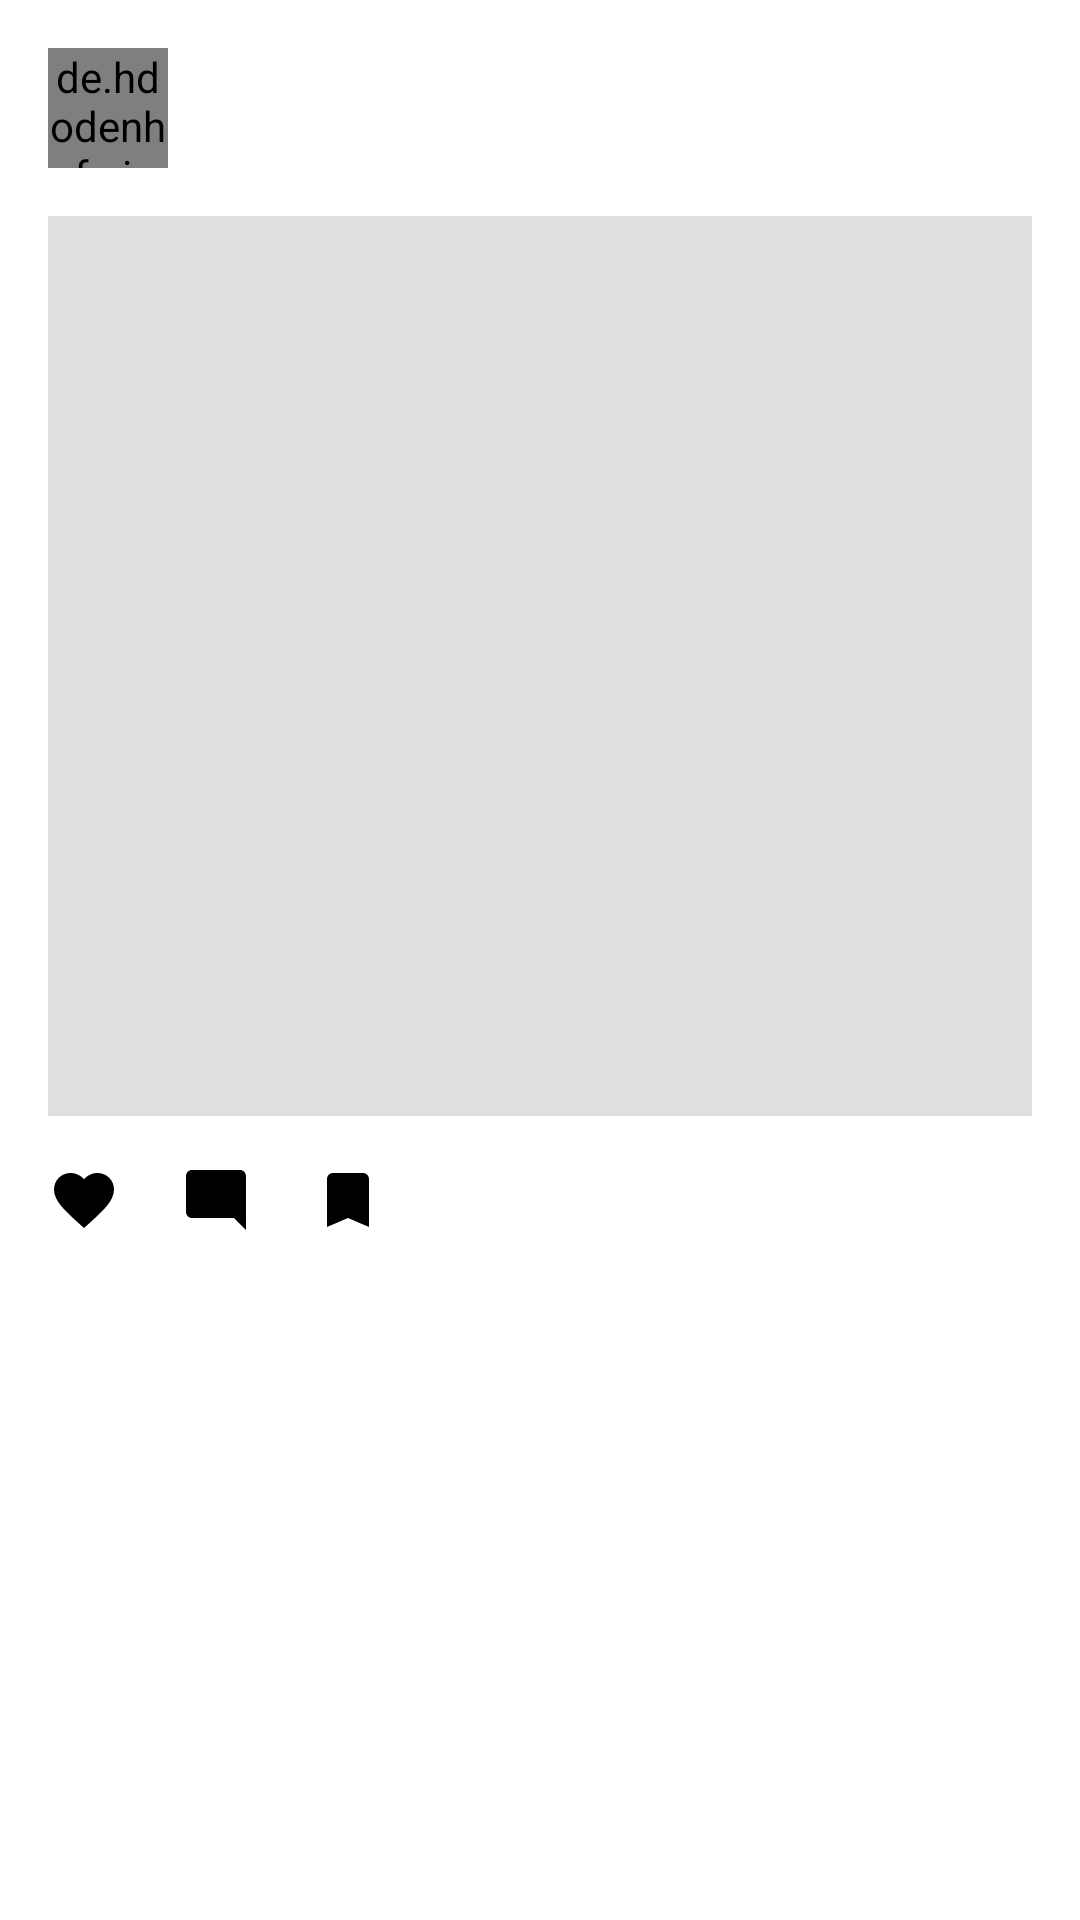

Icon bounding boxes for this 1080*1920 phone screenshot, format (x1, y1, x2, y2):
bookmark: (327, 1173, 369, 1227)
comment: (186, 1170, 246, 1230)
like: (54, 1173, 114, 1228)
